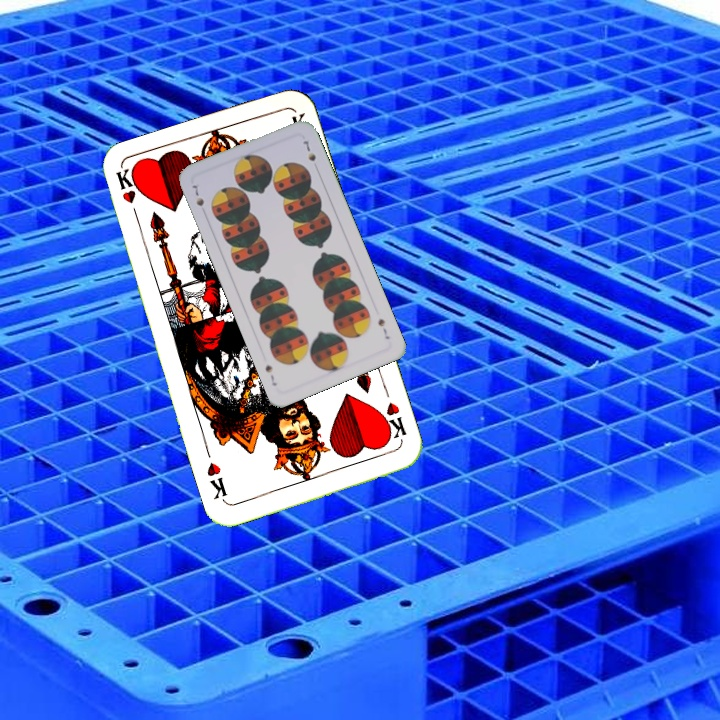HK: (112, 166, 143, 225), (376, 398, 409, 445)
S7: (187, 180, 207, 209), (374, 314, 392, 342)
